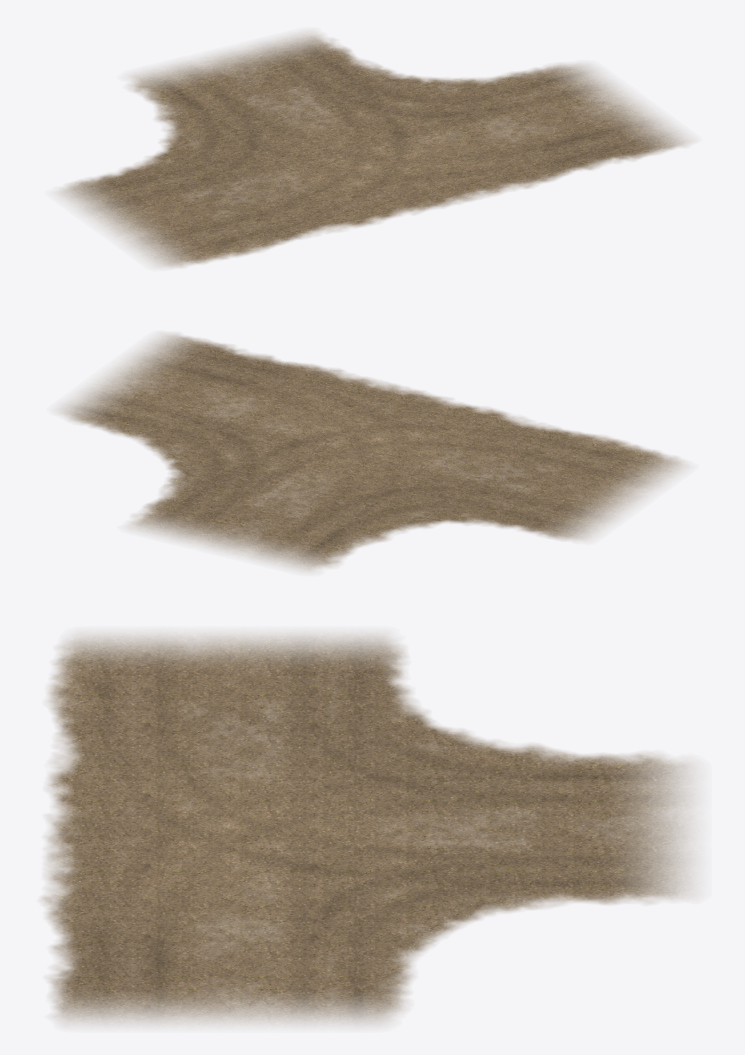
The model's file is road_tee_main_main.glb.
3 renders of one model, top to bottom at view 1: azimuth 30°, elevation 25°; view 2: azimuth 150°, elevation 25°; view 3: azimuth 270°, elevation 25°, orthographic. The views are drawn at different scales.
Parts seen in each view (by area): view 1: road_tee_main_main; view 2: road_tee_main_main; view 3: road_tee_main_main.
Part boxes in pixels (x1=…): road_tee_main_main: x1=57, y1=31, x2=691, y2=267; road_tee_main_main: x1=58, y1=333, x2=687, y2=571; road_tee_main_main: x1=41, y1=634, x2=693, y2=1024.
Bounding box in the file's own units: 30 × 0 × 21.5.
Materials: 1 (1 with a texture image).
